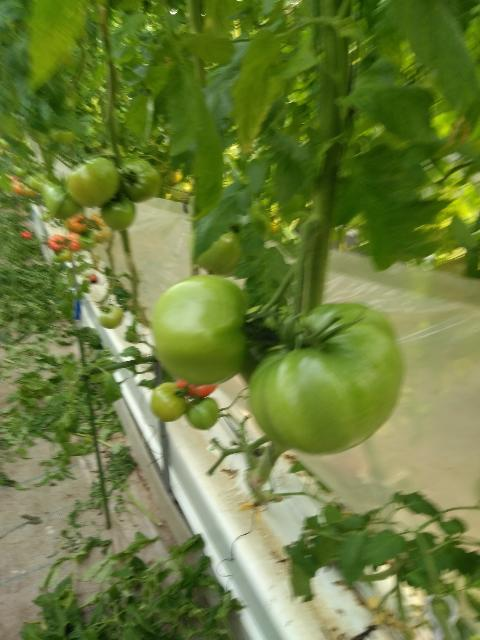b_fully_ripened: (177, 379, 219, 399)
b_green: (248, 303, 404, 456), (153, 275, 249, 385), (190, 224, 249, 278), (69, 157, 120, 208), (119, 159, 160, 204), (151, 382, 186, 422), (102, 194, 136, 231), (186, 397, 219, 431), (99, 307, 123, 329)
